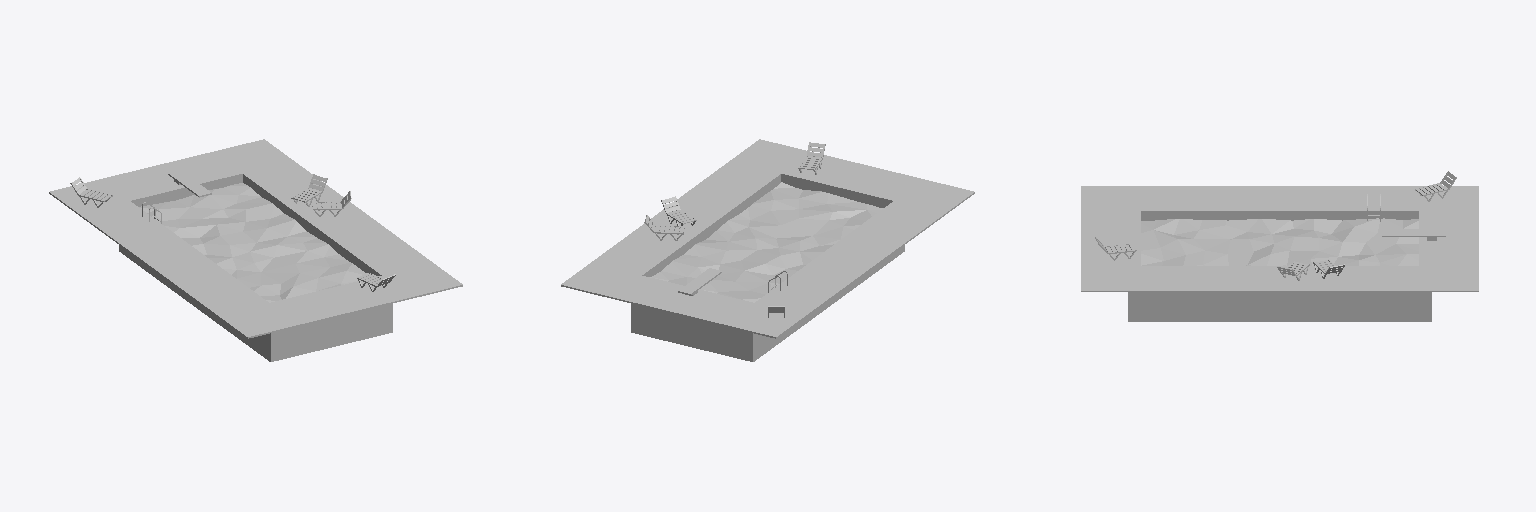
Rendered from pool.obj.
3 views of the same model, side by side, from view 1: azimuth 30°, elevation 25°; view 2: azimuth 150°, elevation 25°; view 3: azimuth 270°, elevation 25° (orthographic).
Visible parts, largest first — view 1: SwimmingPool; view 2: SwimmingPool; view 3: SwimmingPool.
Part boxes in pixels (x1,y1,x2,y2): SwimmingPool: (49, 139, 462, 361); SwimmingPool: (561, 139, 974, 361); SwimmingPool: (1081, 171, 1478, 321).
Bounding box in the file's own units: 26.8 × 8.56 × 42.82.